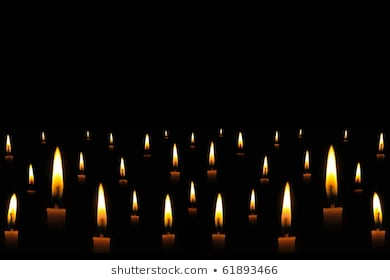Fire: (322, 144, 341, 196), (50, 148, 66, 198), (278, 181, 295, 227), (95, 183, 110, 227), (213, 192, 225, 228), (372, 191, 384, 227), (6, 192, 18, 226), (163, 193, 174, 227), (351, 162, 366, 185), (26, 162, 37, 187), (376, 130, 387, 153), (208, 140, 217, 167), (248, 188, 258, 212), (188, 180, 198, 203), (261, 156, 271, 178), (171, 144, 180, 168), (131, 189, 140, 212), (235, 130, 245, 150), (143, 132, 153, 151), (4, 134, 13, 154), (78, 152, 86, 173), (119, 156, 127, 177), (303, 150, 311, 170), (108, 132, 115, 145), (189, 132, 196, 145), (273, 129, 280, 142), (343, 128, 350, 140), (40, 132, 47, 141), (298, 126, 303, 137), (218, 127, 224, 136), (86, 131, 91, 139)
